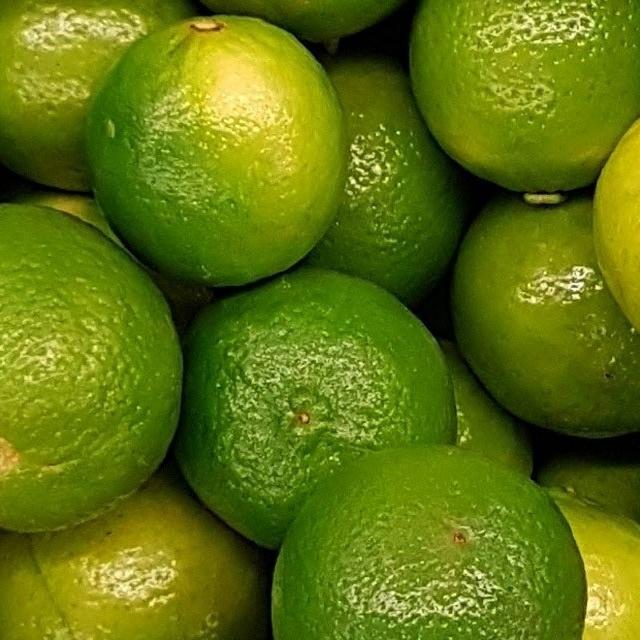lime: (0, 202, 192, 553), (272, 439, 589, 640)
